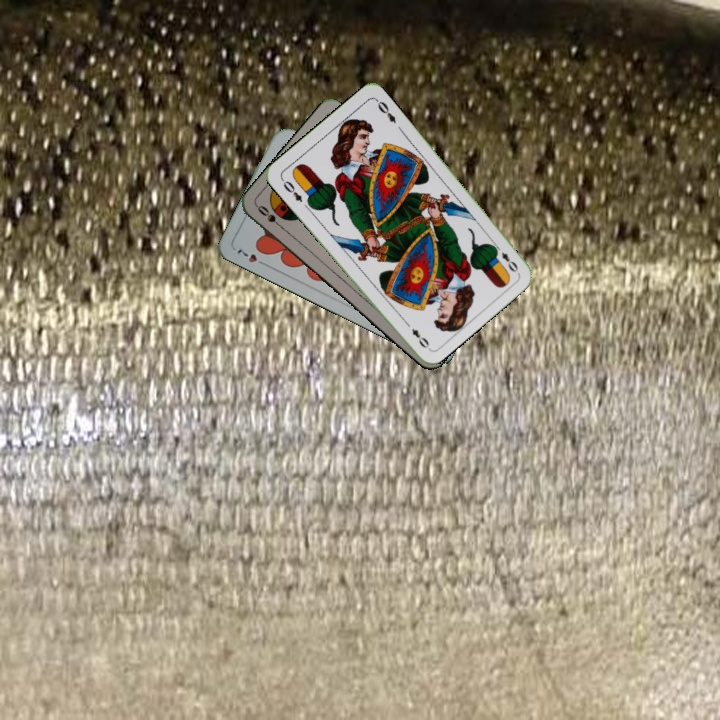EO: (490, 241, 521, 275), (277, 175, 305, 205)
H7: (233, 245, 270, 268)
SO: (253, 201, 287, 232)
